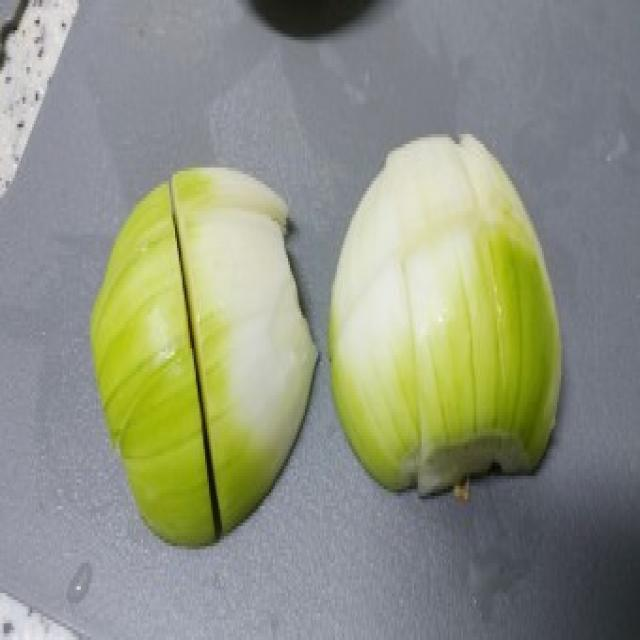onion: (323, 120, 574, 512), (75, 157, 323, 550)
